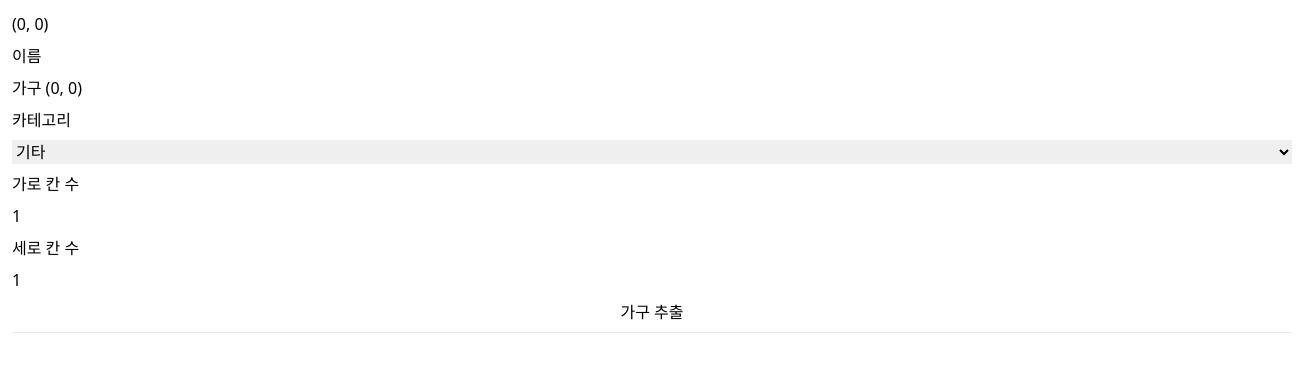
Test: FurnitureExtractionPanel › uses the edited name, category and size when extracting
Replace the text in the field labelled "이름" with "책상" at (652, 88), box [12, 76, 1292, 100]
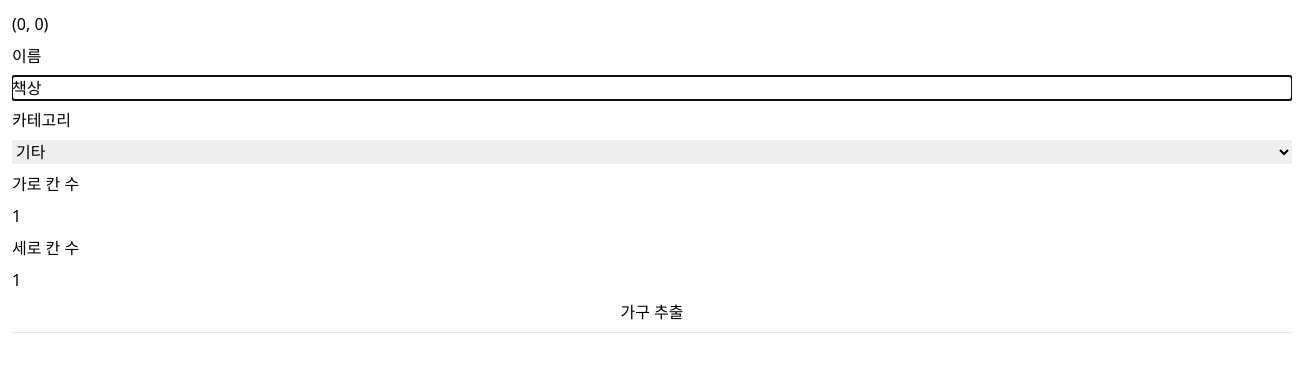
Select "desk" in the dropdown labelled "카테고리" at (652, 152), box [12, 140, 1292, 164]
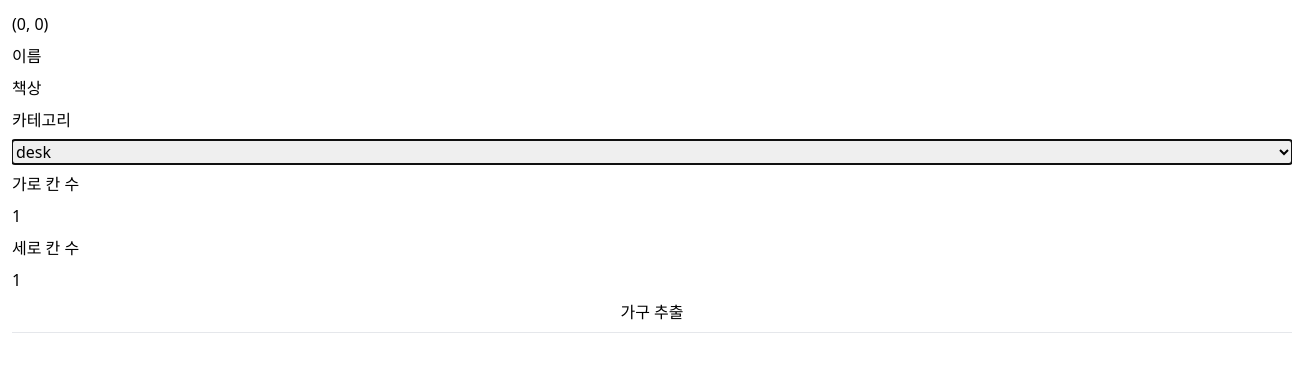
Replace the text in the number field labelled "가로 칸 수" with "2" at (652, 216), box [12, 204, 1292, 228]
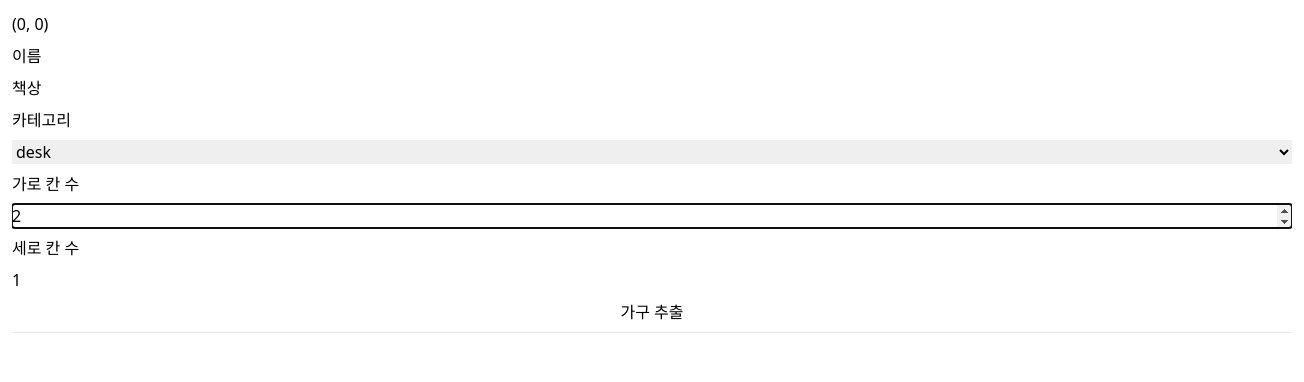
Click the button "가구 추출" at (652, 312), box [12, 300, 1292, 324]
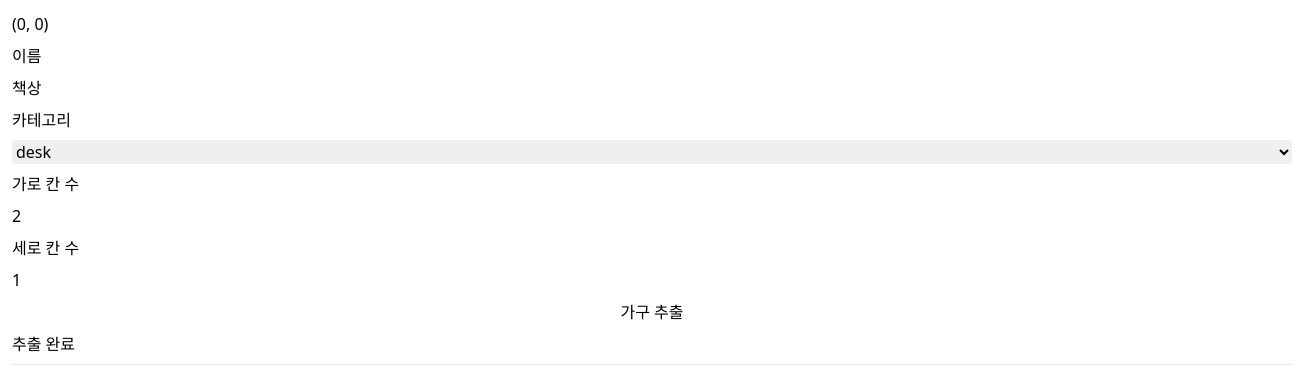
Expected: the text "추출 완료" is shown, [12, 333, 75, 355]
